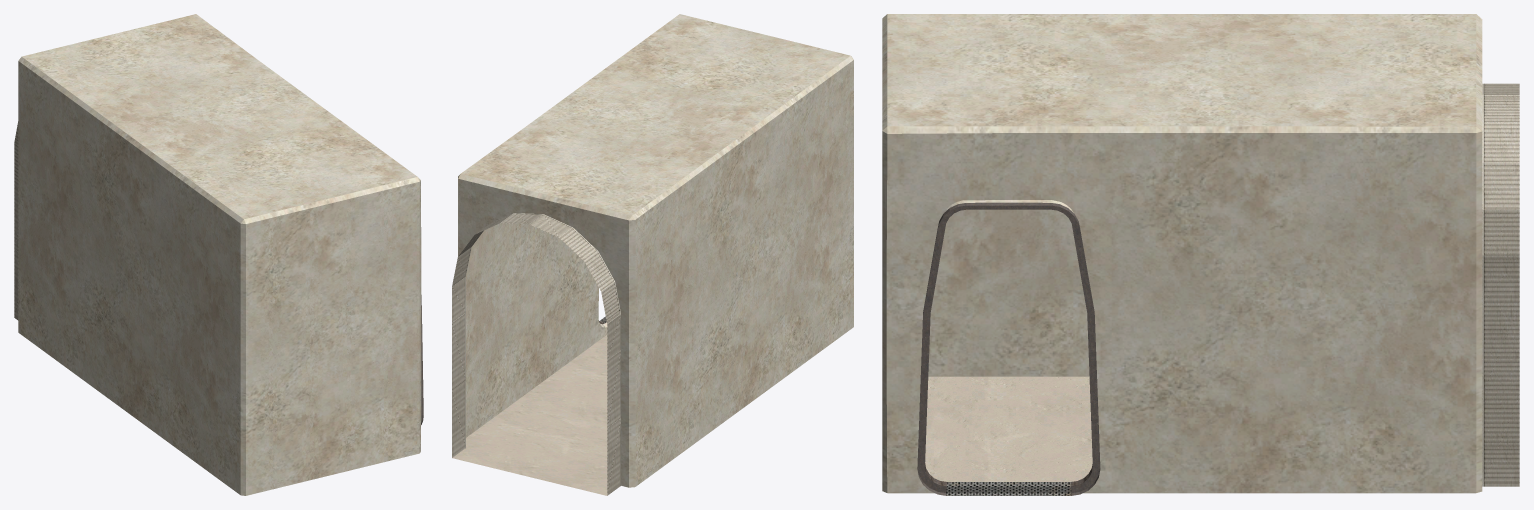
The model's file is ply_tato_house_sm_s01_fp1_r2_hall_mesh_r2.fbx.
The picture shows the model from 3 angles, left to right: view 1: azimuth 30°, elevation 25°; view 2: azimuth 150°, elevation 25°; view 3: azimuth 270°, elevation 25°; orthographic projection. The views are drawn at different scales.
Visible parts, largest first — view 1: mesh_node; view 2: mesh_node; view 3: mesh_node.
Boxes of the visible parts, x1=… form: mesh_node: x1=14, y1=14, x2=423, y2=495; mesh_node: x1=452, y1=14, x2=853, y2=495; mesh_node: x1=882, y1=14, x2=1519, y2=495.
Size of the model in its own units: 2.96 by 4 by 6.34.
